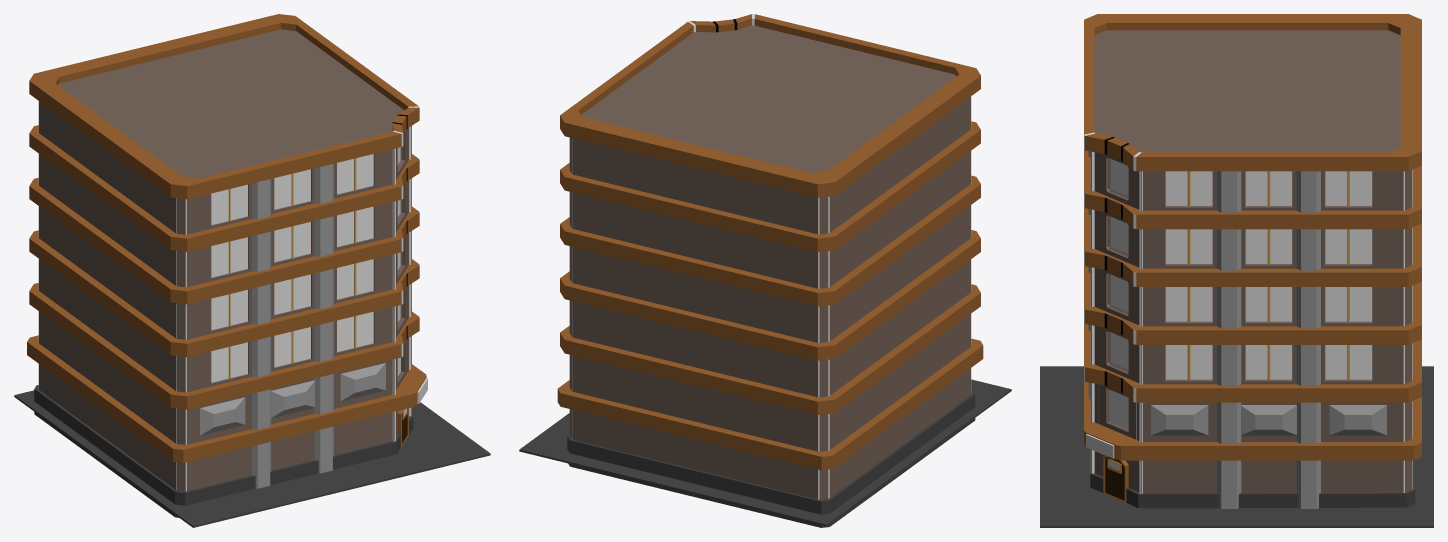
The model's file is corner_building.dae.
3 renders of one model, left to right at view 1: azimuth 30°, elevation 25°; view 2: azimuth 150°, elevation 25°; view 3: azimuth 270°, elevation 25°, orthographic. The views are drawn at different scales.
Visible parts, largest first — view 1: BUILDING 3.001, BUILDING 3, BUILDING 1.005, BUILDING 3.002, Cube.008, Cube.005, Cube.006, Cube.007; view 2: BUILDING 3.001, BUILDING 3, BUILDING 3.002, Cube.008, BUILDING 1.005; view 3: BUILDING 3.001, BUILDING 3, BUILDING 1.005, BUILDING 3.002, Cube.004, Cube, Cube.009, Cube.008, Cube.001.
Boxes of the visible parts, x1,y1,x2,y2 form: BUILDING 3.001: (38,29,411,491); BUILDING 3: (29,14,419,409); BUILDING 1.005: (14,390,490,527); BUILDING 3.002: (27,335,426,462); Cube.008: (34,385,413,517); Cube.005: (252,179,271,488); Cube.006: (314,163,333,473); Cube.007: (200,363,385,435); BUILDING 3.001: (569,25,971,499); BUILDING 3: (560,14,980,414); BUILDING 3.002: (557,338,983,470); Cube.008: (567,389,975,527); BUILDING 1.005: (519,379,1011,526); BUILDING 3.001: (1090,30,1412,494); BUILDING 3: (1084,14,1421,402); BUILDING 1.005: (1040,366,1433,527); BUILDING 3.002: (1084,381,1421,460); Cube.004: (1296,171,1320,508); Cube: (1217,171,1241,508); Cube.009: (1136,402,1386,439); Cube.008: (1090,449,1415,508); Cube.001: (1103,455,1128,502).
Bounding box in the file's own units: 23.69 × 24.69 × 25.47.
